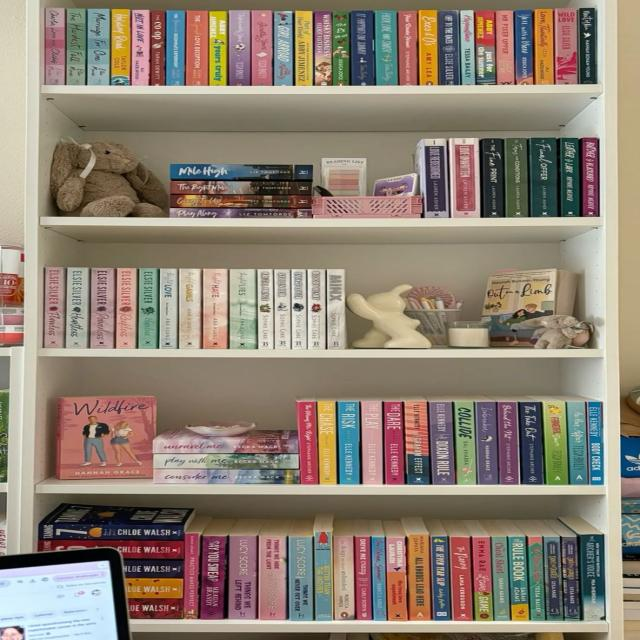book: (37, 539, 183, 559), (416, 139, 449, 218), (171, 163, 311, 181), (259, 536, 287, 619), (38, 524, 182, 540), (529, 138, 558, 217), (230, 536, 257, 620), (450, 138, 478, 218), (229, 269, 257, 349), (202, 269, 229, 349), (404, 401, 430, 484), (429, 402, 455, 484), (170, 181, 312, 196), (289, 537, 314, 621), (153, 454, 300, 468), (153, 469, 300, 483), (518, 402, 543, 484), (580, 536, 604, 621), (65, 268, 90, 348), (90, 268, 115, 348), (453, 401, 477, 484), (475, 401, 499, 484), (171, 195, 311, 209), (408, 534, 430, 621), (543, 401, 566, 484), (153, 441, 299, 454), (504, 138, 528, 217), (497, 402, 520, 484), (350, 11, 375, 86), (178, 269, 201, 349), (337, 401, 359, 484), (203, 535, 225, 618), (471, 534, 492, 620), (450, 538, 472, 620), (481, 139, 504, 217), (43, 267, 65, 348), (185, 11, 209, 85), (115, 268, 137, 348), (137, 268, 159, 348), (87, 9, 110, 85), (554, 8, 577, 84), (361, 401, 382, 484), (383, 401, 404, 484), (566, 402, 587, 484), (334, 535, 354, 620), (326, 269, 347, 349), (297, 401, 317, 484), (250, 11, 272, 86), (533, 9, 555, 84), (388, 538, 408, 620), (375, 11, 397, 85), (44, 8, 65, 85), (317, 400, 336, 484), (431, 536, 450, 620), (315, 532, 333, 620), (158, 269, 178, 348), (169, 207, 311, 218), (229, 11, 250, 85), (438, 11, 459, 85), (66, 8, 86, 85), (110, 9, 130, 85), (577, 8, 597, 84), (563, 537, 581, 621), (510, 537, 528, 621), (559, 138, 578, 217), (130, 10, 150, 85), (165, 10, 185, 85), (585, 401, 603, 484), (490, 537, 508, 620), (273, 12, 293, 86), (475, 11, 495, 84), (528, 536, 545, 621), (355, 536, 372, 620), (398, 10, 417, 85), (418, 10, 437, 85), (580, 137, 598, 216), (545, 537, 562, 620), (371, 538, 388, 620), (308, 269, 325, 349), (294, 11, 312, 86), (290, 270, 307, 349), (209, 11, 227, 85), (495, 11, 513, 84), (257, 269, 273, 349), (274, 270, 290, 349), (314, 11, 331, 85), (332, 11, 349, 85), (515, 10, 532, 84), (126, 577, 181, 599), (459, 11, 475, 85), (125, 558, 181, 578), (185, 533, 198, 619), (130, 598, 182, 618), (150, 11, 164, 85)
candle: (448, 321, 489, 347)
